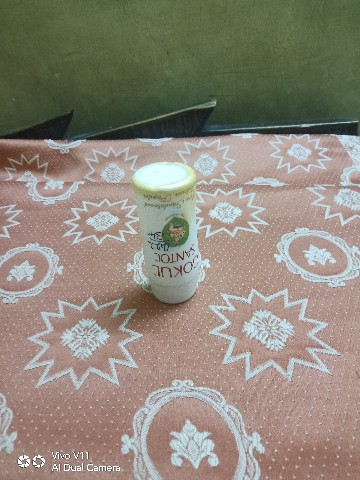gokulsantol small: (118, 137, 232, 350)
